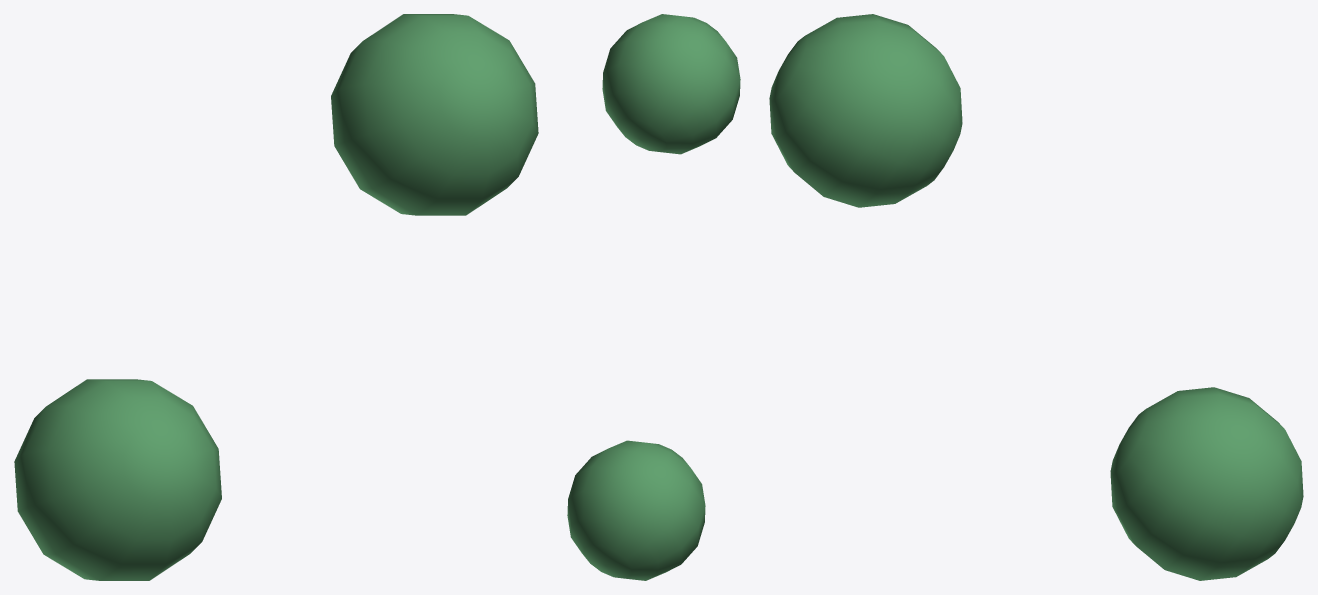
3 renders of one model, left to right at view 1: azimuth 30°, elevation 25°; view 2: azimuth 150°, elevation 25°; view 3: azimuth 270°, elevation 25°, orthographic. The views are drawn at different scales.
Visible parts, largest first — view 1: 右侧枕淋巴结; view 2: 右侧枕淋巴结; view 3: 右侧枕淋巴结.
Boxes of the visible parts, <box> form: 右侧枕淋巴结: <box>14,14,538,580</box>; 右侧枕淋巴结: <box>567,14,740,580</box>; 右侧枕淋巴结: <box>769,14,1303,580</box>.
Bounding box in the file's own units: 0.0066 × 0.0132 × 0.0105.
